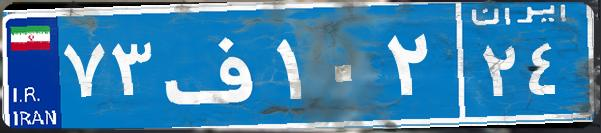0: (330, 28, 385, 110)
1: (273, 28, 330, 110)
2: (385, 28, 445, 110), (475, 38, 525, 113)
3: (110, 28, 158, 105)
4: (525, 38, 570, 115)
7: (57, 26, 110, 107)
ف: (158, 15, 273, 115)
